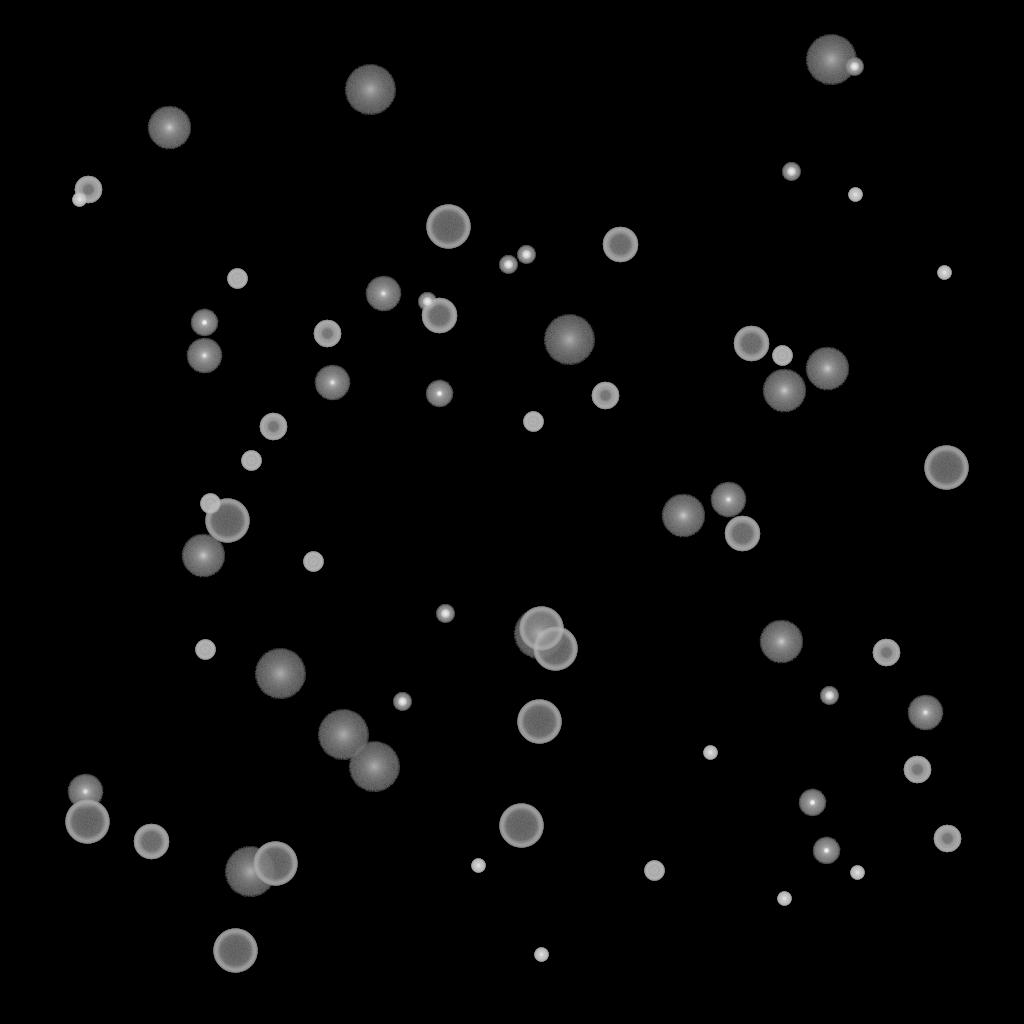depth:-10: (812, 837, 840, 865), (425, 380, 453, 408), (190, 309, 218, 337), (798, 789, 826, 817)
depth:-20: (499, 256, 517, 274), (845, 58, 863, 76), (393, 693, 411, 711), (820, 687, 838, 705), (517, 246, 535, 264), (782, 163, 800, 181), (418, 293, 436, 311), (436, 605, 454, 623)
depth:-30: (703, 746, 717, 760), (777, 892, 791, 906), (471, 859, 485, 873), (72, 193, 86, 207), (937, 266, 951, 280), (848, 188, 862, 202), (850, 866, 864, 880), (534, 948, 548, 962)
depth:-40: (644, 861, 664, 881), (200, 494, 220, 514), (772, 346, 792, 366), (227, 269, 247, 289), (195, 640, 215, 660), (303, 552, 323, 572), (241, 451, 261, 471), (523, 412, 543, 432)
depth:-50: (933, 825, 961, 853), (74, 176, 102, 204), (259, 413, 287, 441), (313, 320, 341, 348), (872, 639, 900, 667), (591, 382, 619, 410), (903, 756, 931, 784)
depth:-60: (602, 227, 638, 263), (133, 824, 169, 860), (733, 326, 769, 362), (421, 298, 457, 334), (724, 516, 760, 552)
depth:-70: (499, 804, 543, 848), (213, 929, 257, 973), (533, 627, 577, 671), (924, 446, 968, 490), (517, 700, 561, 744), (205, 499, 249, 543), (519, 607, 563, 651), (65, 800, 109, 844), (426, 205, 470, 249), (253, 842, 297, 886)
depth:0: (365, 276, 401, 312), (907, 695, 943, 731), (314, 365, 350, 401), (186, 338, 222, 374), (67, 774, 103, 810), (710, 482, 746, 518)
depth:10: (805, 347, 849, 391), (147, 106, 191, 150), (661, 494, 705, 538), (762, 369, 806, 413), (181, 534, 225, 578), (759, 620, 803, 664)
depth:20: (513, 609, 565, 659), (344, 65, 396, 115), (543, 315, 595, 365), (317, 710, 369, 760), (805, 35, 857, 85), (348, 742, 400, 792), (224, 847, 276, 897), (254, 649, 306, 699)
